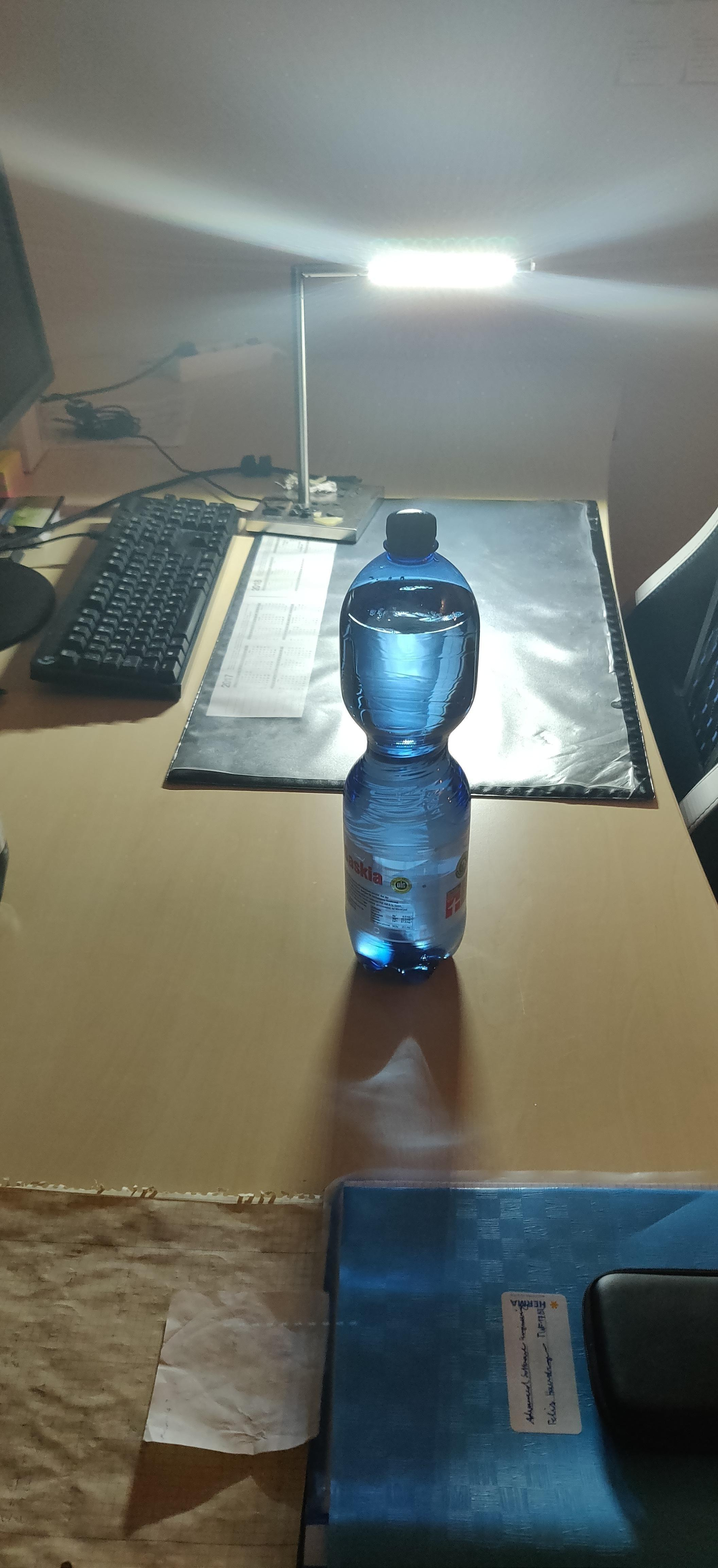bottle-plastic: (340, 511, 480, 979)
